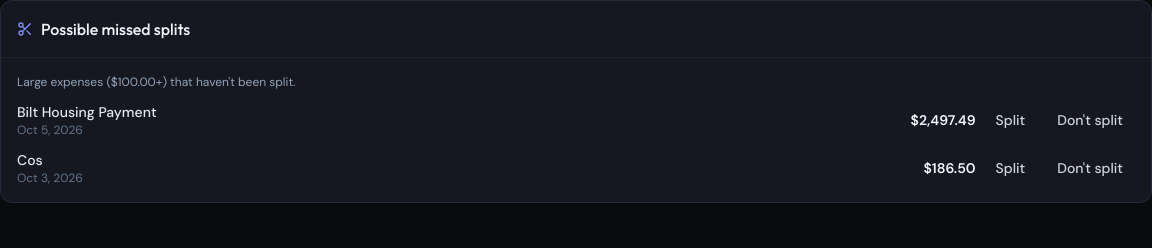
it: LargeUnsplitTransactions › clears that message on the next attempt
Click the button with aria-label "Don't split Bilt Housing Payment" at (1090, 120), box [1045,102,1135,138]
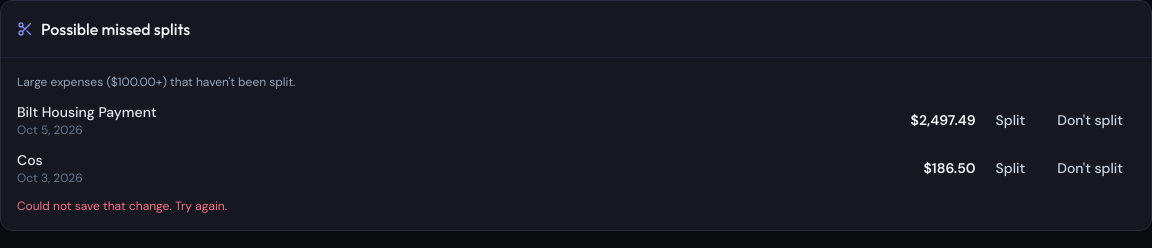
Click the button with aria-label "Don't split Cos" at (1090, 168), box [1045,150,1135,186]
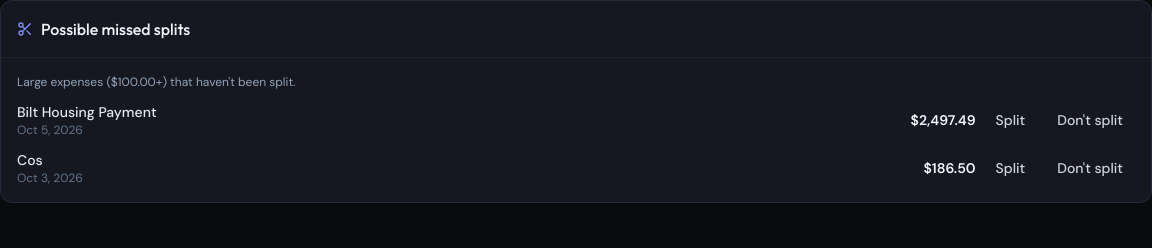
expect the message "Could not save that change. Try again." is gone: met
